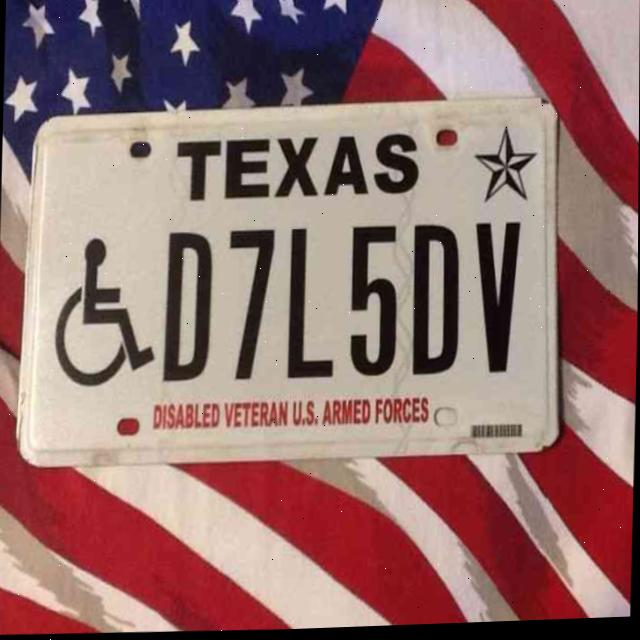symbol_of_access: (48, 232, 163, 395)
